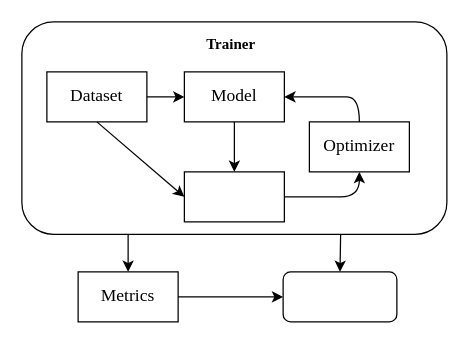
Image size: 469x344. Some labels were removed from this diagram. Each missing label, with the centre of its shape:
Logger: the point at 339,296
Loss: the point at 233,196
